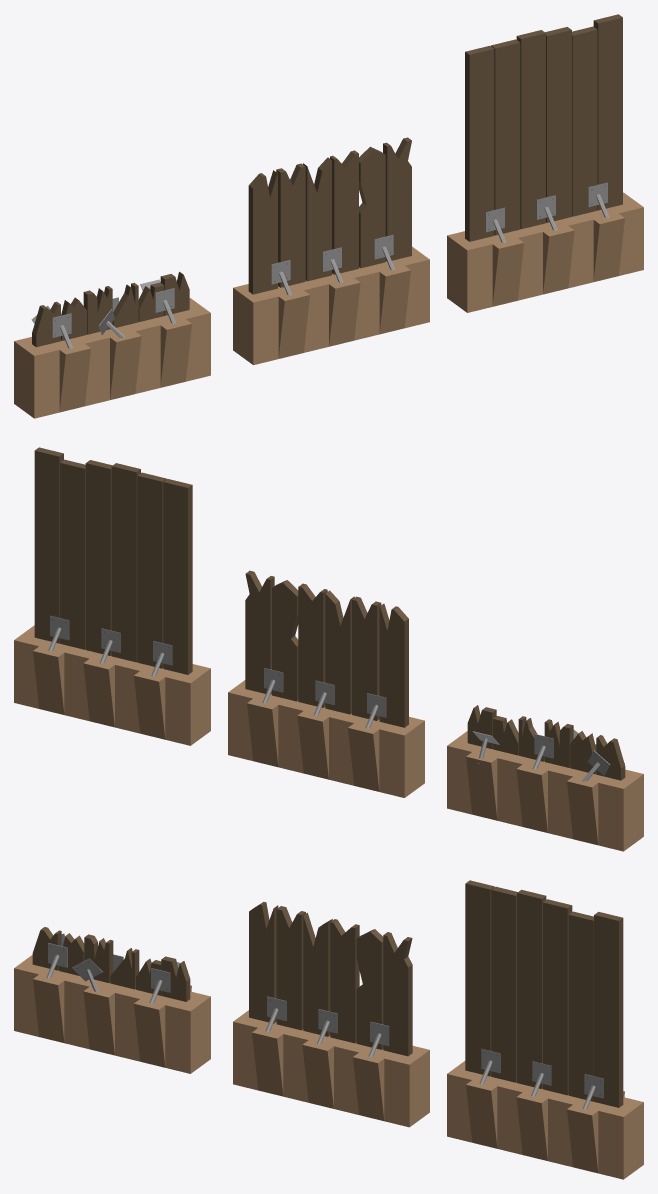
File: Barricate (again).fbx
The picture shows the model from 3 angles, top to bottom: view 1: azimuth 30°, elevation 25°; view 2: azimuth 150°, elevation 25°; view 3: azimuth 330°, elevation 25°; orthographic projection.
Visible parts, largest first — view 1: Assi intere, Assi rotte, Base distrutta, Base intera, Base rotta, Assi distrutte; view 2: Assi intere, Assi rotte, Base intera, Base rotta, Base distrutta, Assi distrutte; view 3: Assi intere, Assi rotte, Base distrutta, Base intera, Base rotta, Assi distrutte.
Part boxes in pixels (<box>): Assi intere: <box>465,14,622,241</box>; Assi rotte: <box>248,137,411,294</box>; Base distrutta: <box>14,279,210,418</box>; Base intera: <box>447,182,643,312</box>; Base rotta: <box>233,234,429,365</box>; Assi distrutte: <box>32,271,189,347</box>; Assi intere: <box>34,447,192,674</box>; Assi rotte: <box>245,570,408,727</box>; Base intera: <box>14,615,210,745</box>; Base rotta: <box>228,668,424,797</box>; Base distrutta: <box>447,730,643,851</box>; Assi distrutte: <box>467,705,625,780</box>; Assi intere: <box>465,880,623,1107</box>; Assi rotte: <box>249,902,412,1056</box>; Base distrutta: <box>14,933,210,1073</box>; Base intera: <box>447,1048,643,1179</box>; Base rotta: <box>233,996,429,1127</box>; Assi distrutte: <box>32,927,190,1001</box>.
Size of the model in its own units: 9.92 by 0.9293 by 3.93.
